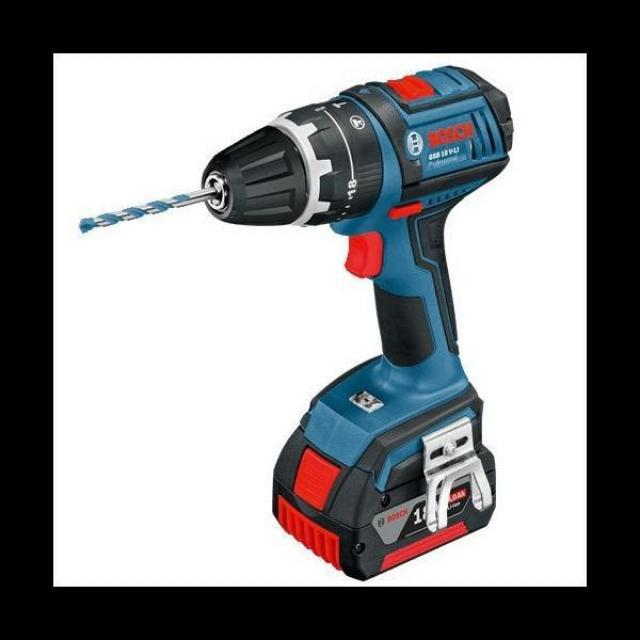drill: (77, 62, 515, 583)
